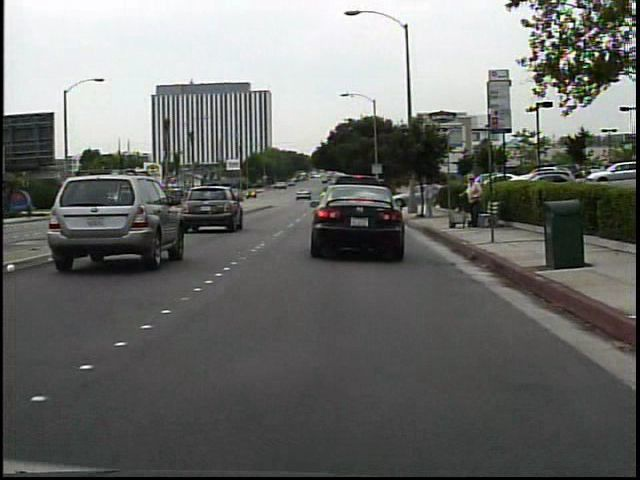person: (459, 173, 487, 231), (420, 174, 443, 222)
